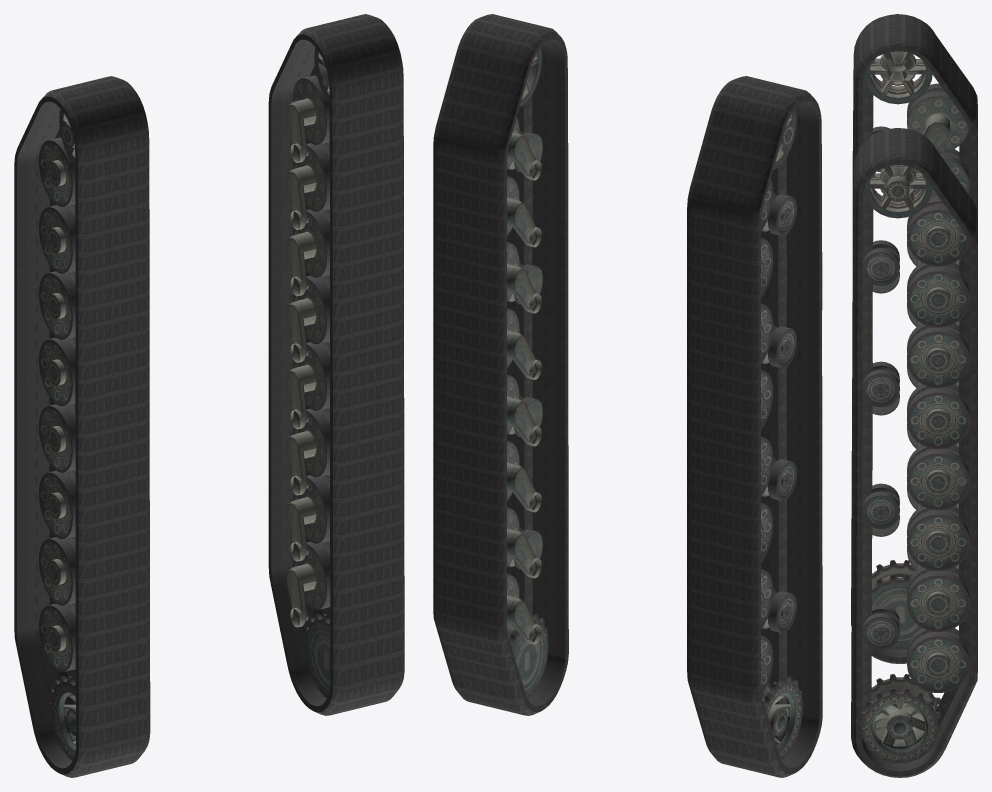
File: Chassis.glb
3 views of the same model, side by side, from view 1: azimuth 30°, elevation 25°; view 2: azimuth 150°, elevation 25°; view 3: azimuth 270°, elevation 25° (orthographic). The views are drawn at different scales.
Visible parts, largest first — view 1: set_0_group_0, set_1_group_0, set_3_group_0, set_2_group_0; view 2: set_0_group_0, set_1_group_0, set_3_group_0, set_2_group_0; view 3: set_3_group_0, set_1_group_0, set_2_group_0, set_0_group_0.
Boxes of the visible parts, box(x1,y1,x2,y2) form: set_0_group_0: box(14, 76, 150, 777); set_1_group_0: box(268, 14, 404, 715); set_3_group_0: box(286, 47, 330, 697); set_2_group_0: box(38, 109, 75, 760); set_0_group_0: box(687, 76, 822, 777); set_1_group_0: box(433, 14, 568, 715); set_3_group_0: box(507, 47, 548, 698); set_2_group_0: box(761, 108, 802, 760); set_3_group_0: box(861, 165, 969, 763); set_1_group_0: box(851, 128, 977, 777); set_2_group_0: box(863, 51, 969, 649); set_0_group_0: box(851, 14, 977, 663).
Bounding box in the file's own units: 3.39 × 6.77 × 1.25.
4 materials, 4 textured.
